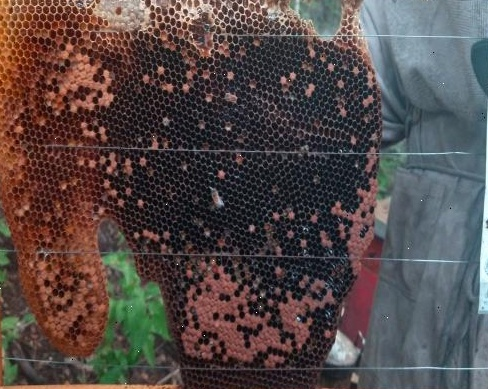cria: (133, 228, 334, 370), (331, 146, 379, 275), (36, 263, 106, 348), (49, 43, 115, 113)
